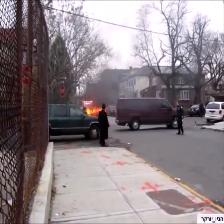fire: (84, 104, 107, 121)
